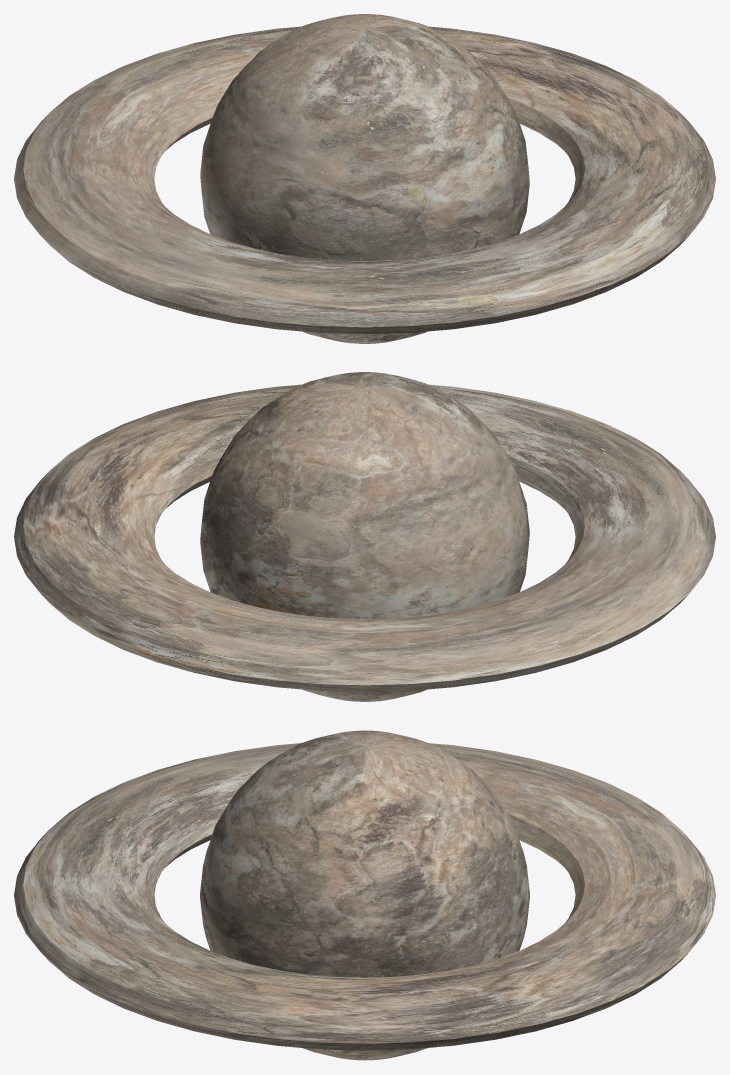
File: jupiter.gltf
The picture shows the model from 3 angles, top to bottom: view 1: azimuth 30°, elevation 25°; view 2: azimuth 150°, elevation 25°; view 3: azimuth 270°, elevation 25°; orthographic projection.
Visible parts, largest first — view 1: Torus, Sphere; view 2: Torus, Sphere; view 3: Torus, Sphere.
Boxes of the visible parts, <box> form: Torus: <box>14,26,715,334</box>; Sphere: <box>200,14,529,343</box>; Torus: <box>14,384,715,692</box>; Sphere: <box>200,372,529,701</box>; Torus: <box>14,743,715,1050</box>; Sphere: <box>200,730,529,1060</box>.
Size of the model in its own units: 4.25 by 2 by 4.25.
